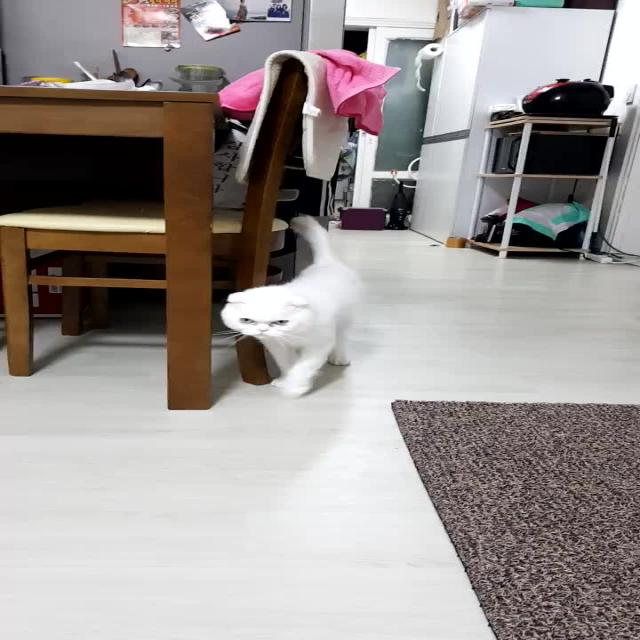cat: (215, 210, 376, 404)
